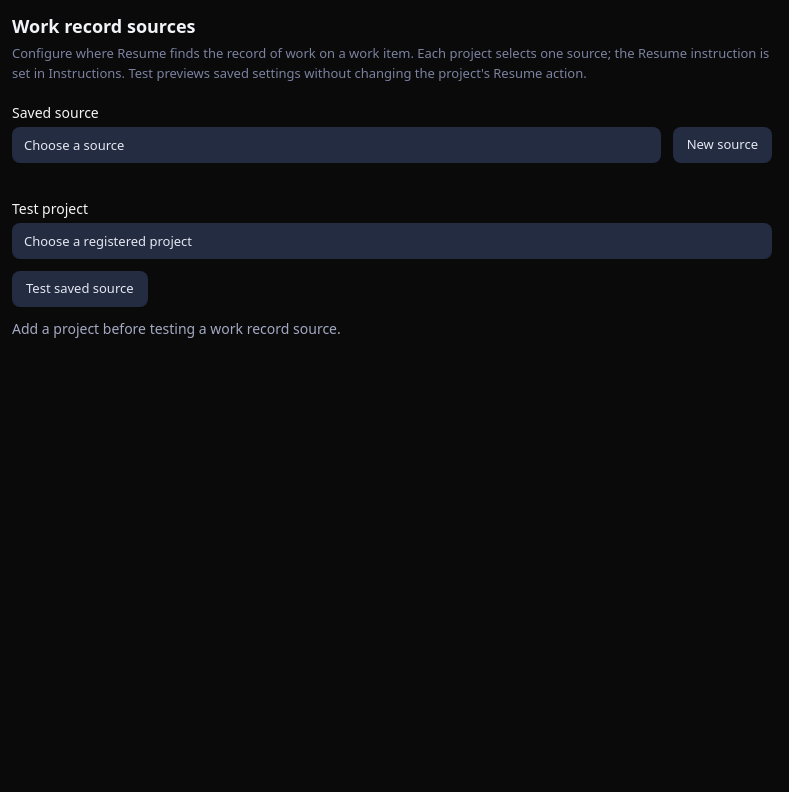
Test case: Resume sources settings › names the projects using the selected source
Select "Notes" in the dropdown labelled "Saved source" at (336, 145), box top-left (12, 127), bottom-right (661, 163)
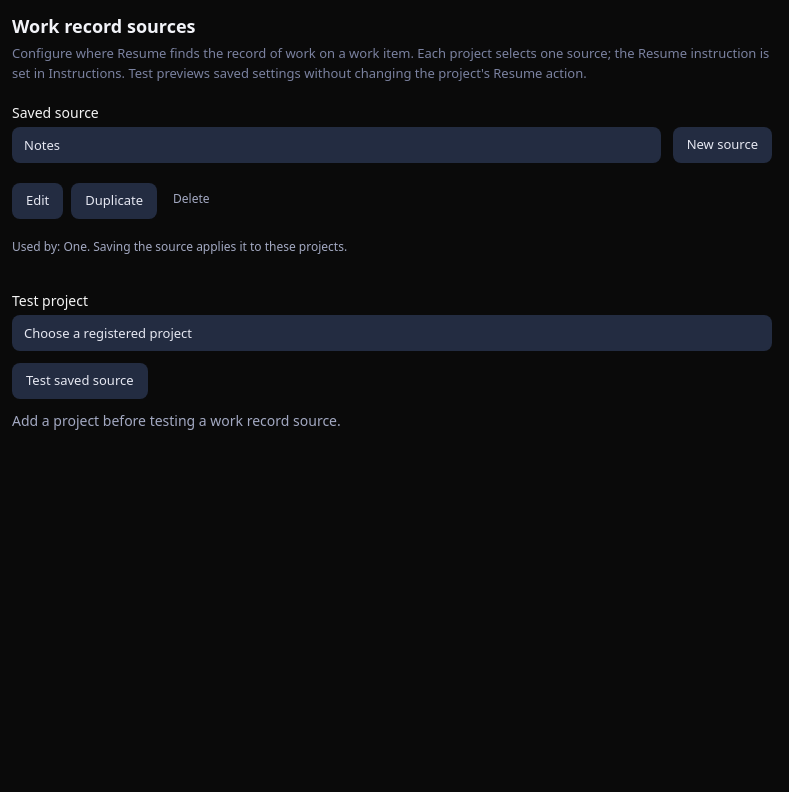
expect the text with test id "resume-template-usage" reads "Used by: One. Saving the source applies it to these projects.": met, box top-left (12, 238), bottom-right (347, 255)
Click the button "Edit" at (38, 201), box top-left (12, 183), bottom-right (63, 219)
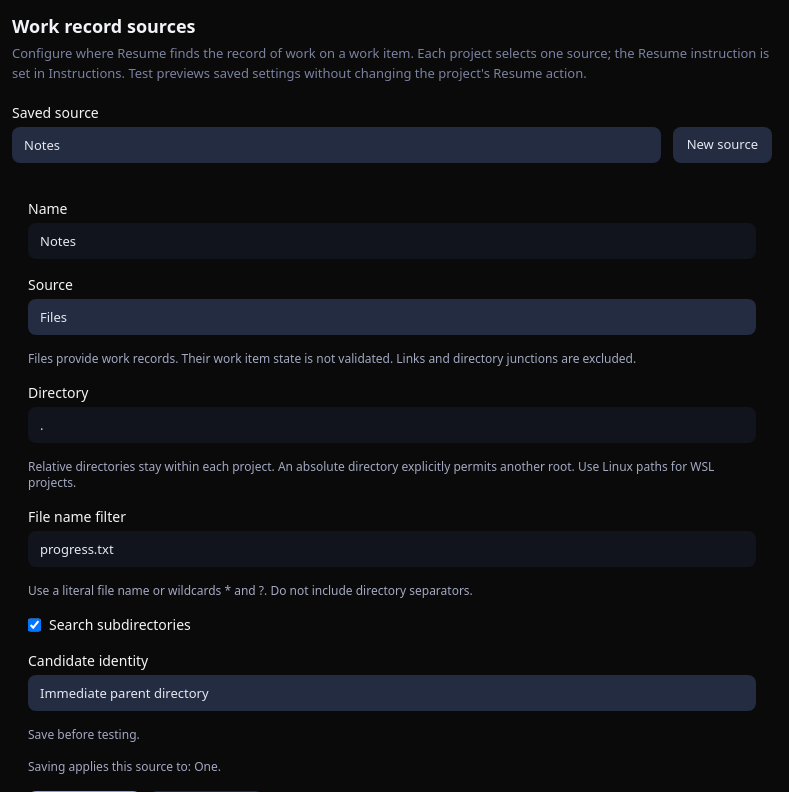
expect the text "Saving applies this source to: One." is shown: met, box top-left (28, 758), bottom-right (221, 775)
